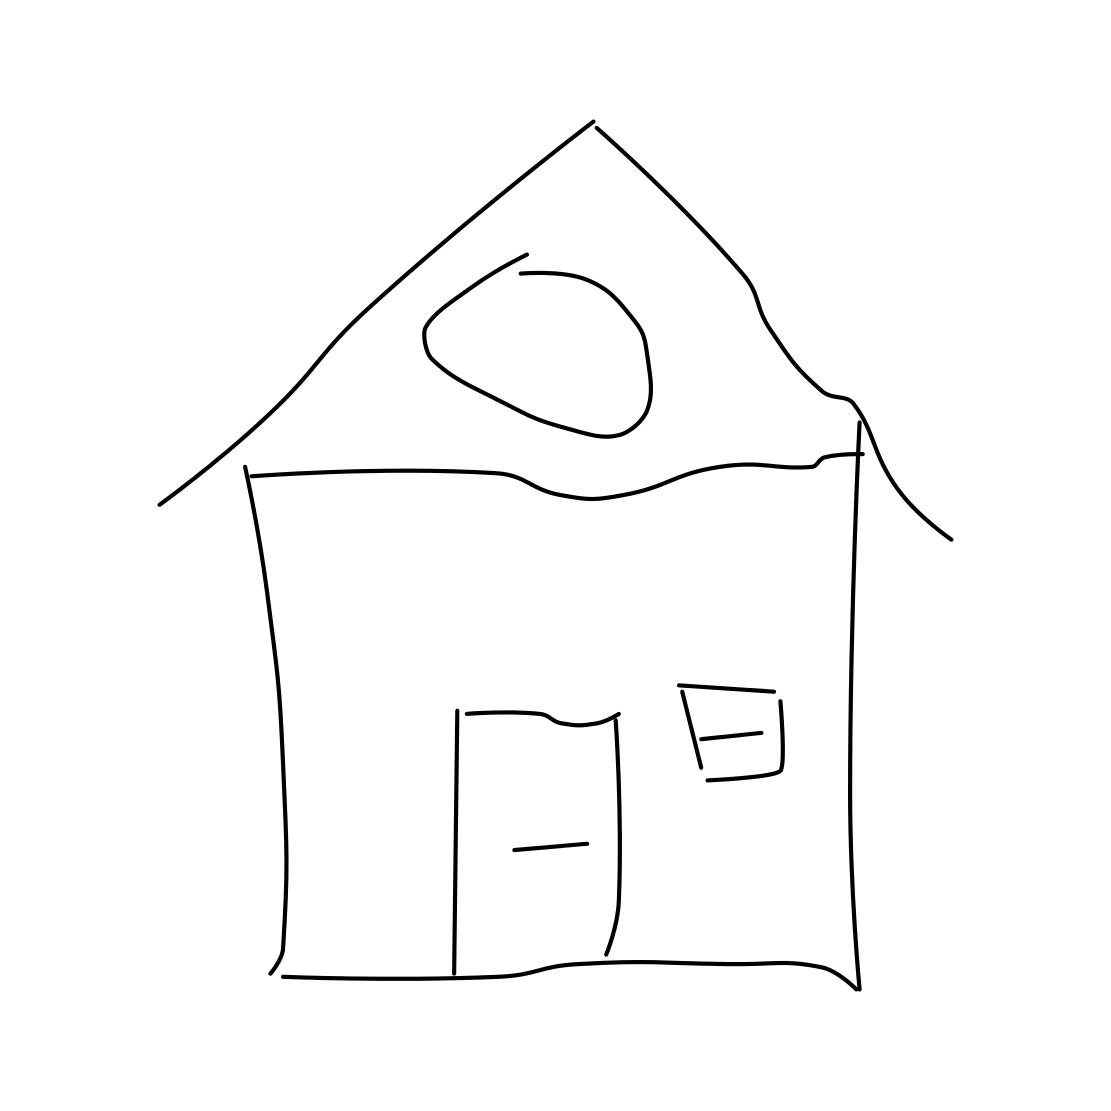door: (435, 668, 634, 987)
house: (108, 78, 979, 1003)
roof: (102, 85, 977, 582)
wall: (248, 472, 873, 1003)
window: (431, 246, 670, 444), (661, 652, 792, 786)
